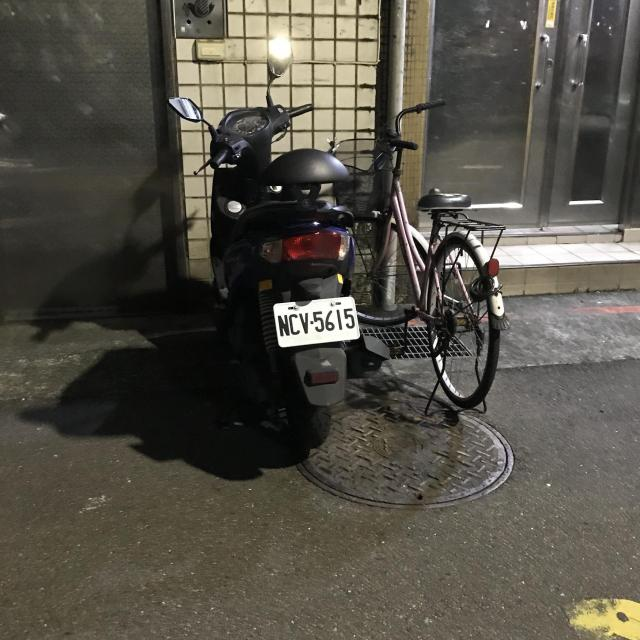W: (270, 294, 367, 348)
